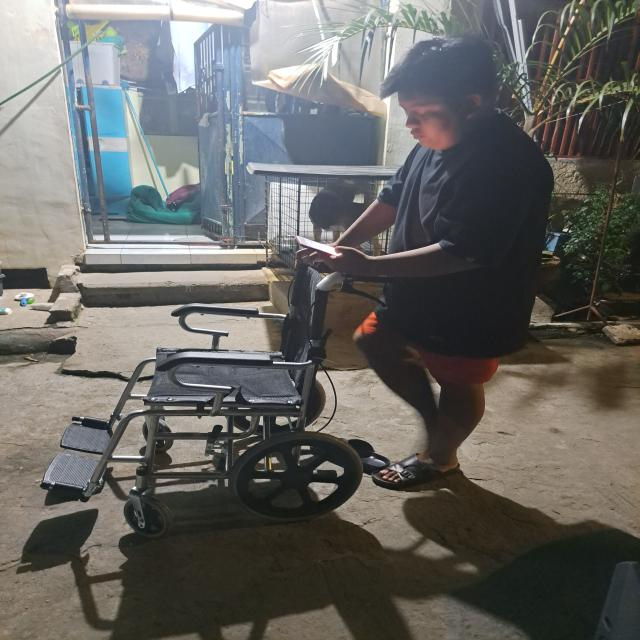wheelchairs: (39, 243, 372, 546)
